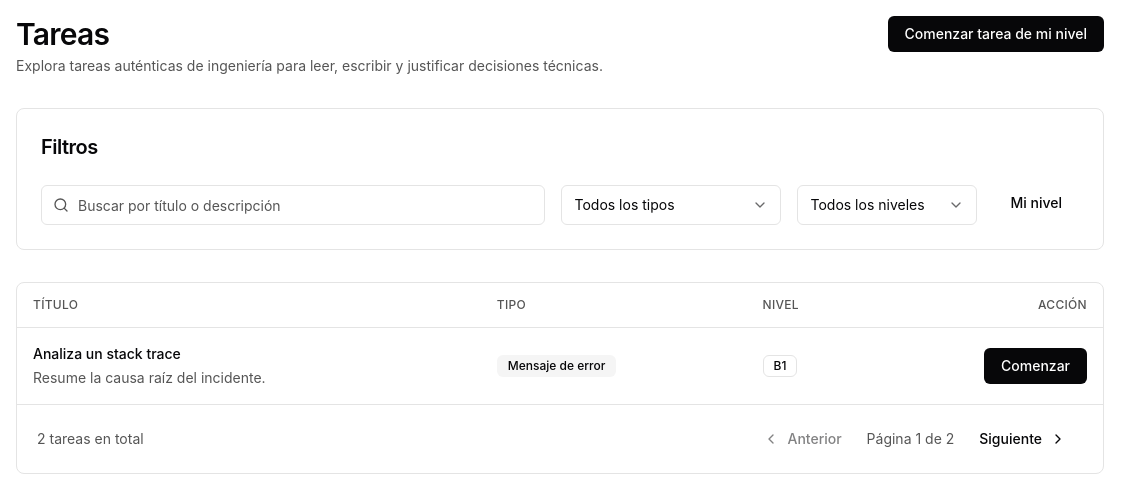
TaskListPage › renders rows, applies filters, and paginates on the server
The width and height of the screenshot is (1121, 491).
expect the text "Analiza un stack trace" is shown: met, box [33,344,181,362]
Click the dropdown named "Filtrar por tipo de tarea". click: (672, 205)
box: [562,185,782,225]
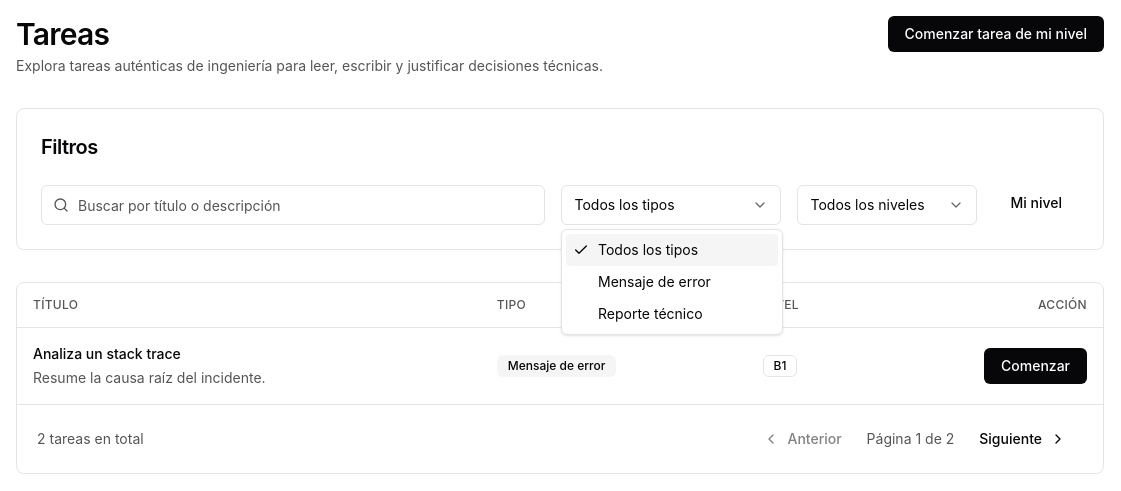
Click the option "Mensaje de error". click: (654, 282)
box: [598,273,711,290]
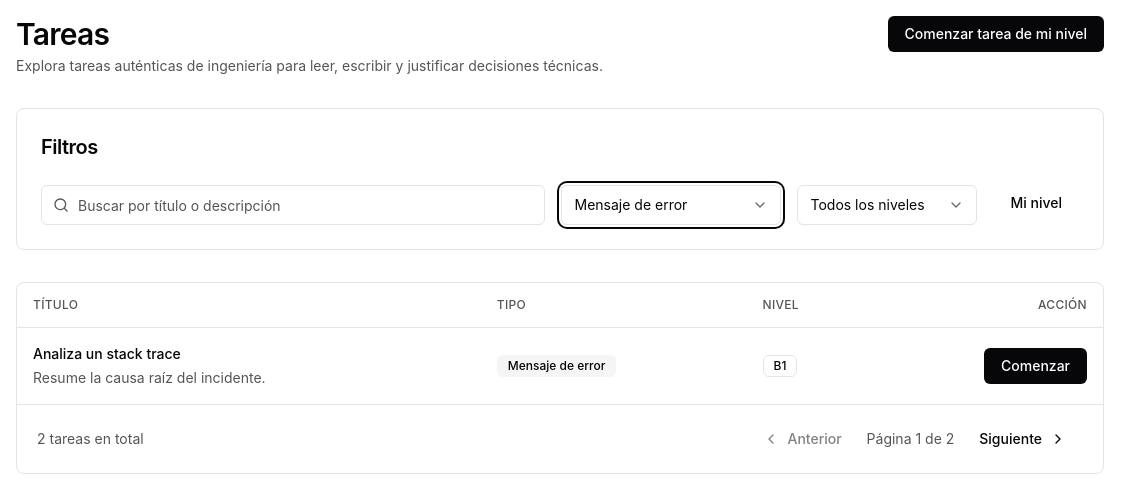
Click the button "Mi nivel". click: (1036, 203)
box: [994,185,1079,221]
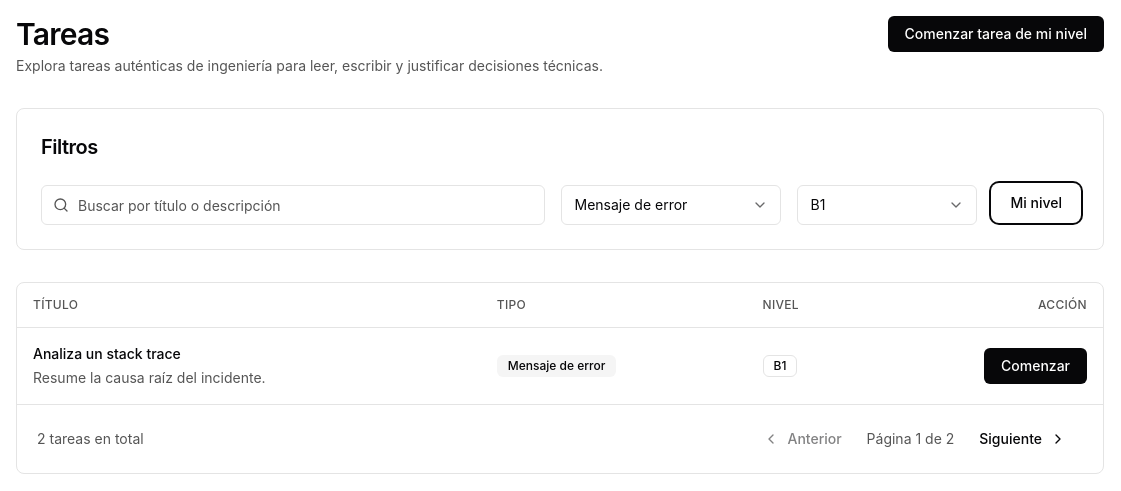
Click the button "Siguiente". click: (1023, 438)
box: [962,420,1083,456]
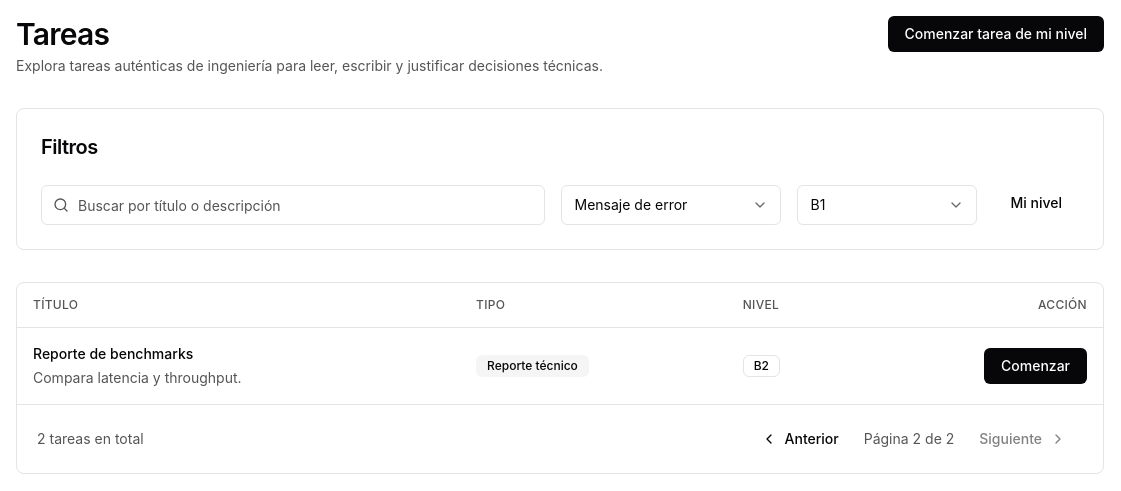
expect the text "Reporte de benchmarks" is shown: met, box [33,344,193,362]
